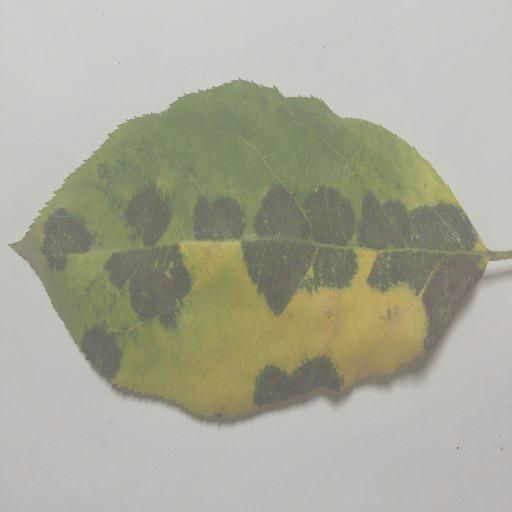Brown_Spot: (413, 257, 476, 348), (132, 259, 201, 312), (258, 362, 346, 394), (259, 253, 301, 296)
